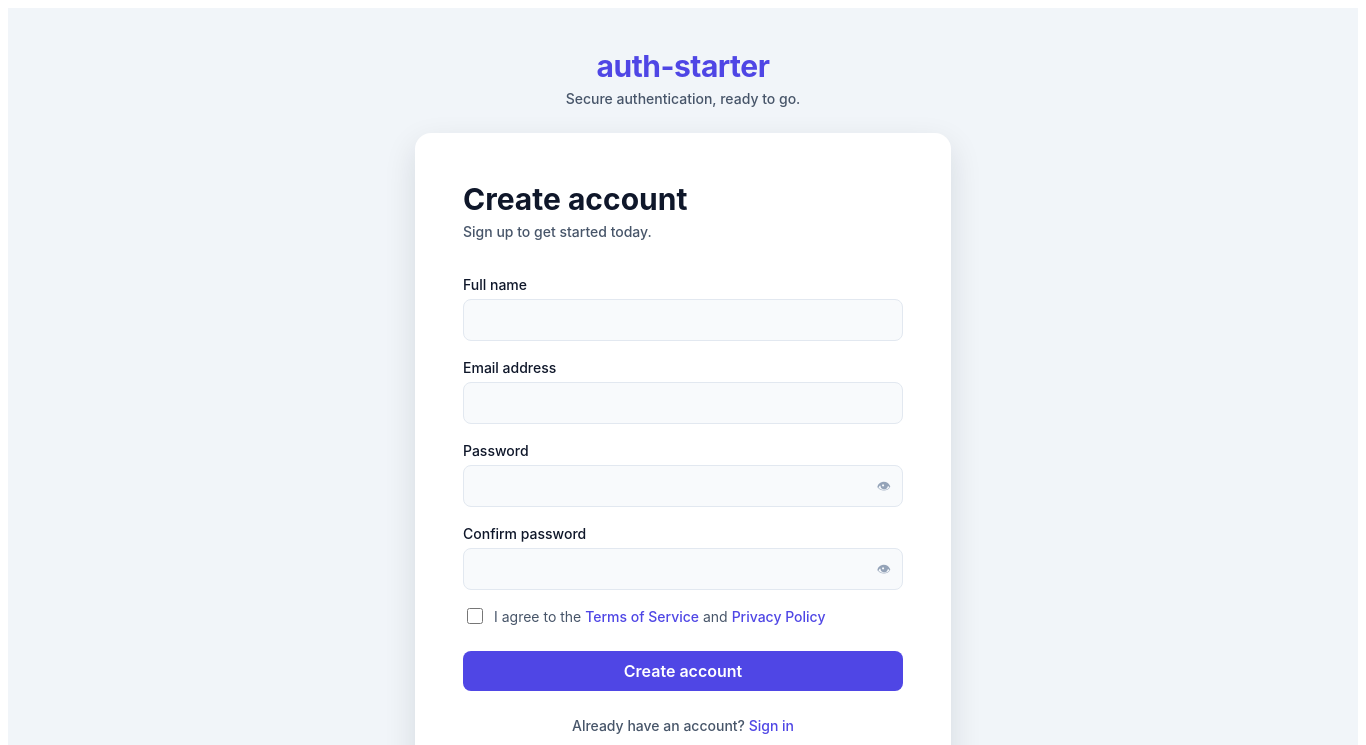
RegisterPage › form validation on submit (empty form) › shows fullName error when submitting empty form
Click the button "Create account" at (683, 671), box [463,651,903,691]
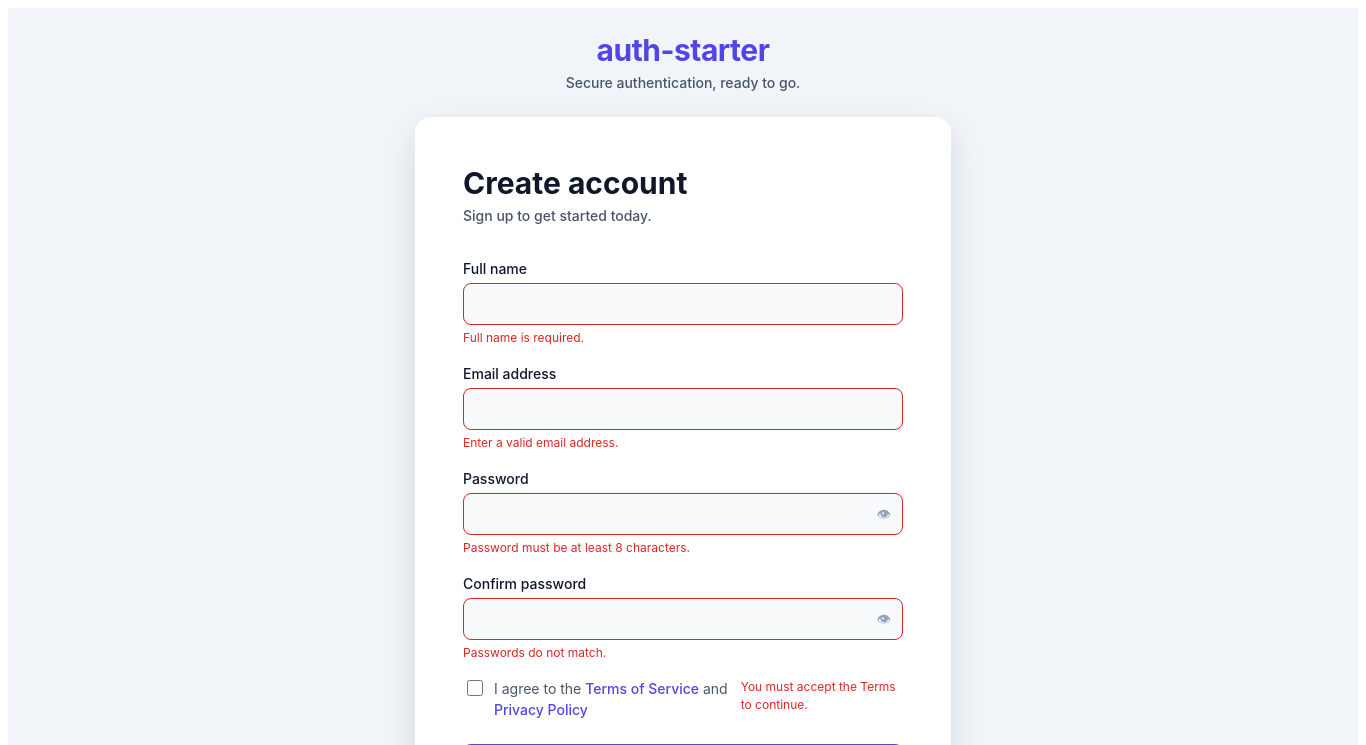
Check: the text "Full name is required." is shown, box [463,330,584,345]
